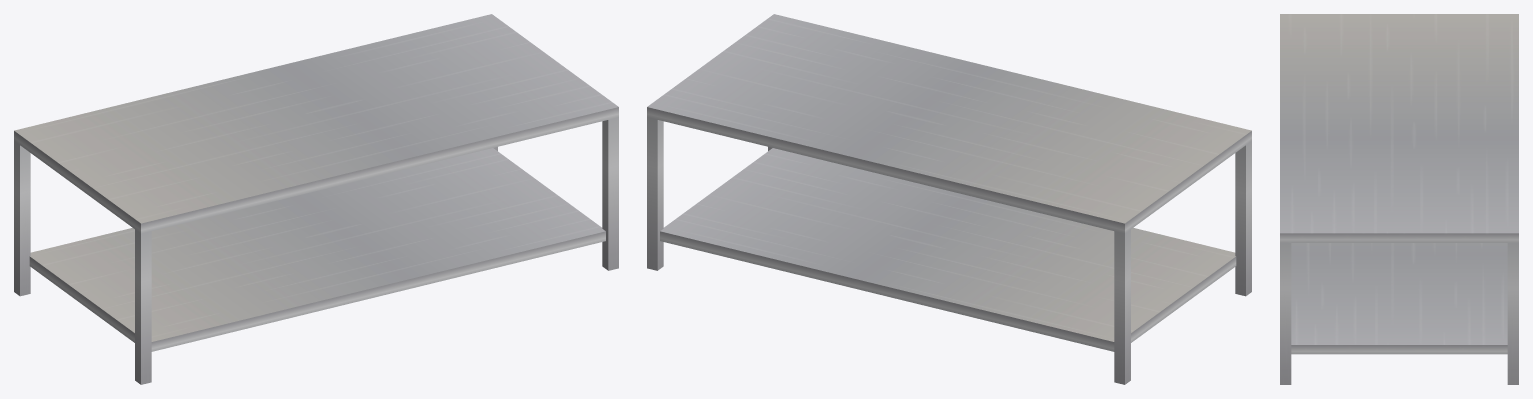
File: Mesa.fbx
The picture shows the model from 3 angles, left to right: view 1: azimuth 30°, elevation 25°; view 2: azimuth 150°, elevation 25°; view 3: azimuth 270°, elevation 25°; orthographic projection. The views are drawn at different scales.
Visible parts, largest first — view 1: Mesa; view 2: Mesa; view 3: Mesa.
Boxes of the visible parts, x1=… form: Mesa: x1=14, y1=14, x2=618, y2=384; Mesa: x1=647, y1=14, x2=1251, y2=384; Mesa: x1=1280, y1=14, x2=1518, y2=384.
Bounding box in the file's own units: 236 × 76.21 × 109.
1 material, 1 textured.
